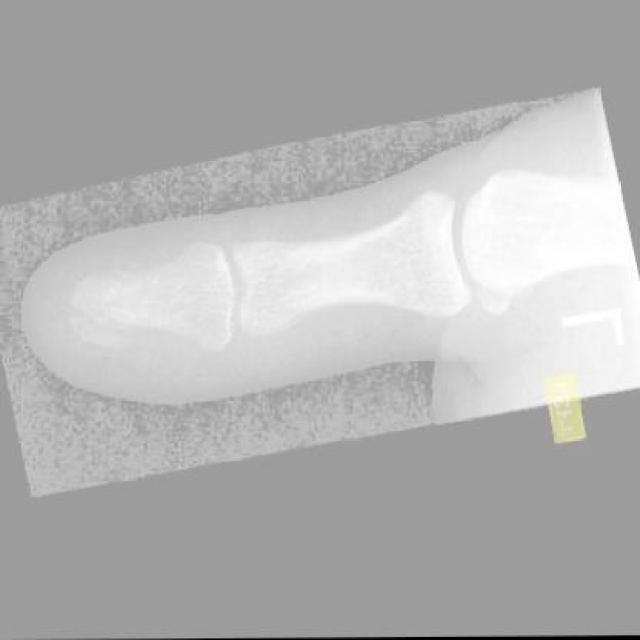Fracture: (51, 262, 165, 363)
